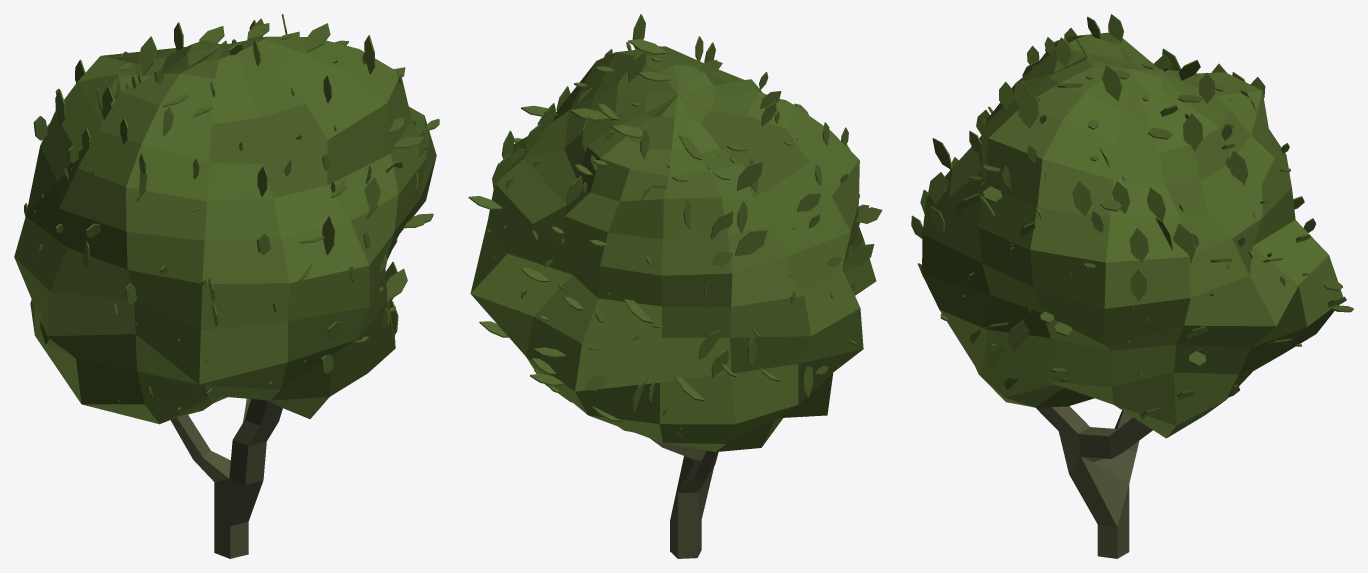
The model's file is Tree.fbx.
3 views of the same model, side by side, from view 1: azimuth 30°, elevation 25°; view 2: azimuth 150°, elevation 25°; view 3: azimuth 270°, elevation 25° (orthographic). The views are drawn at different scales.
Parts seen in each view (by area): view 1: Sphere.005; view 2: Sphere.005; view 3: Sphere.005.
Part boxes in pixels (bbox=[...]): Sphere.005: bbox=[14, 14, 439, 558]; Sphere.005: bbox=[468, 14, 882, 558]; Sphere.005: bbox=[911, 14, 1353, 558].
Bounding box in the file's own units: 701 × 915 × 715.
